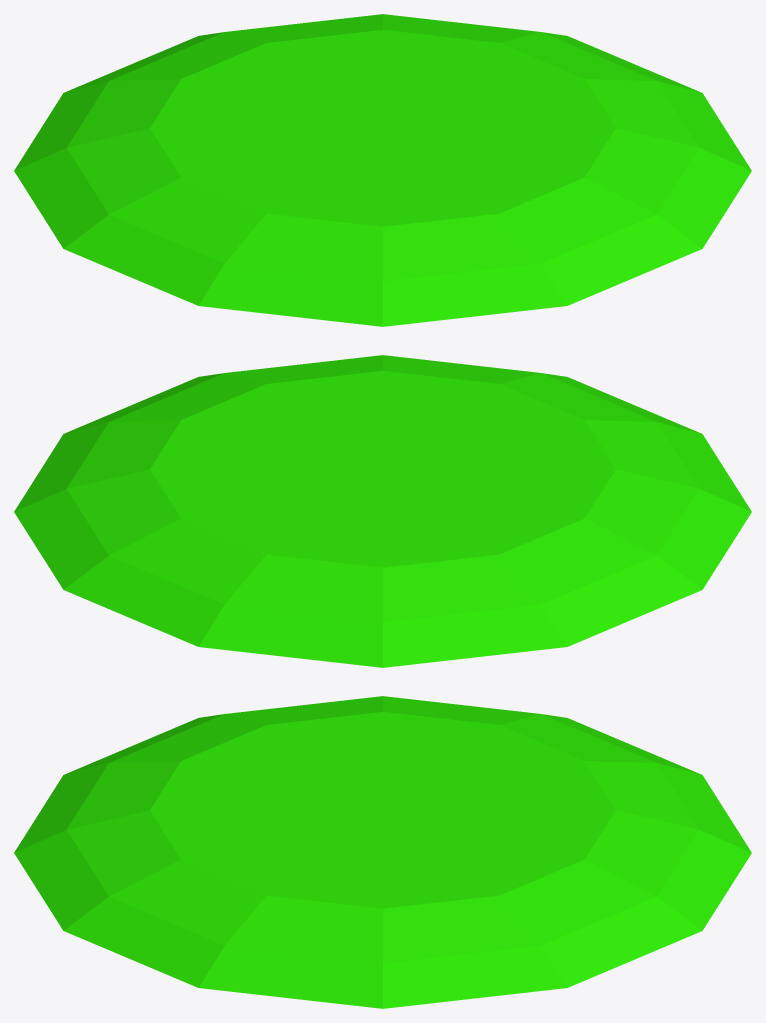
File: parachute.fbx
The picture shows the model from 3 angles, top to bottom: view 1: azimuth 30°, elevation 25°; view 2: azimuth 150°, elevation 25°; view 3: azimuth 270°, elevation 25°; orthographic projection.
Visible parts, largest first — view 1: Cylinder; view 2: Cylinder; view 3: Cylinder.
Boxes of the visible parts, x1,y1,x2,y2 form: Cylinder: (14,14,751,326); Cylinder: (14,355,751,667); Cylinder: (14,696,751,1008).
Size of the model in its own units: 233 by 14.88 by 233.
